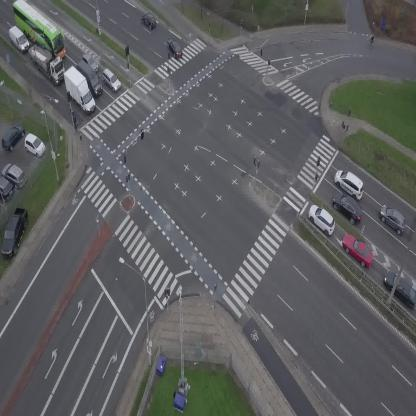bicycle: (72, 115, 79, 132), (367, 34, 375, 47)
car: (337, 228, 379, 272), (327, 187, 368, 227), (303, 200, 341, 238), (330, 165, 370, 201), (374, 200, 412, 236), (97, 67, 125, 94), (165, 36, 186, 62), (79, 50, 102, 73), (138, 11, 160, 32)
lorry: (17, 35, 73, 89), (58, 62, 98, 118), (74, 57, 105, 99), (4, 24, 34, 54)
